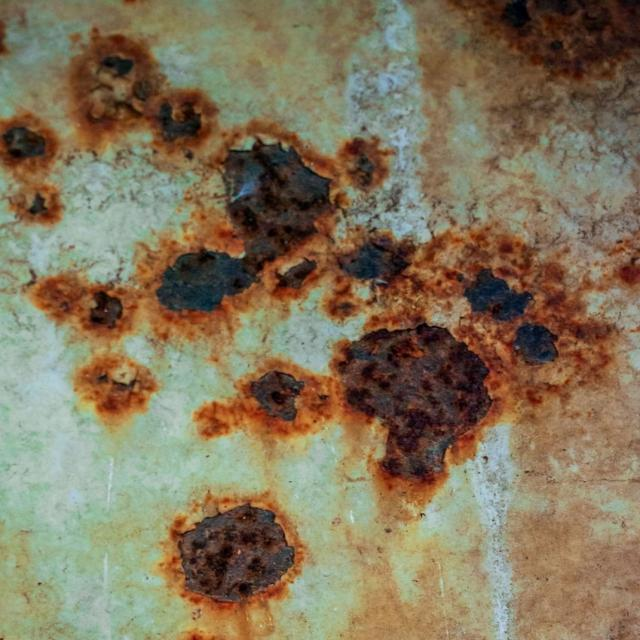Pitting Corrosion: (0, 33, 628, 509), (454, 0, 639, 79), (178, 503, 295, 602)
